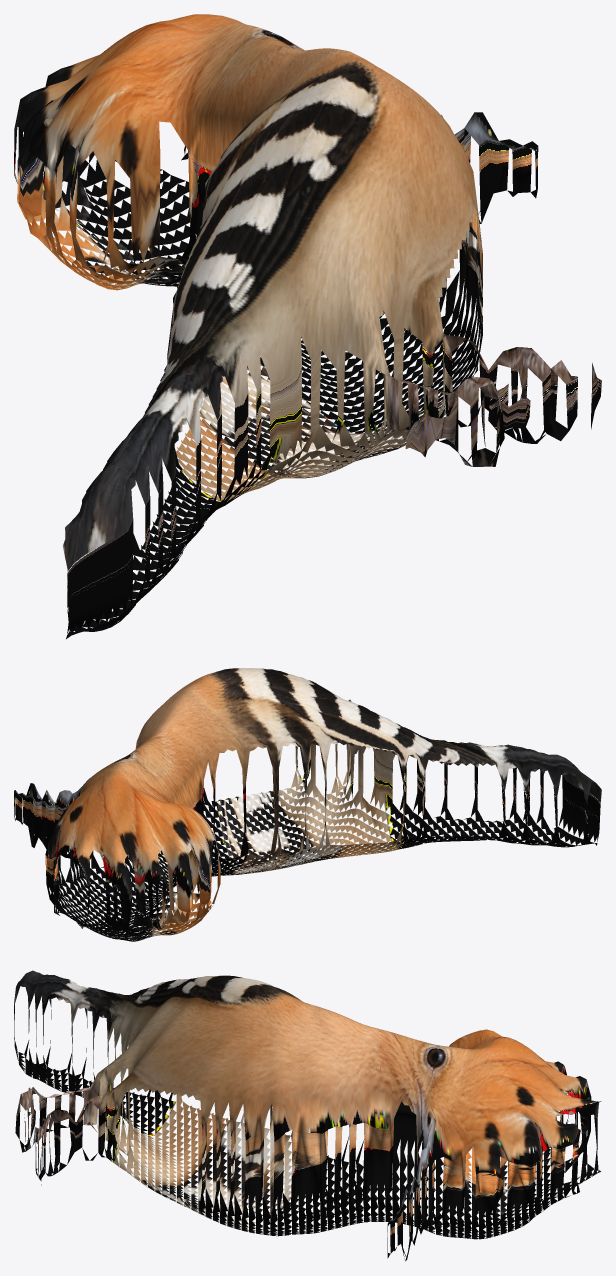
Rendered from hoopoe.glb.
The picture shows the model from 3 angles, top to bottom: view 1: azimuth 30°, elevation 25°; view 2: azimuth 150°, elevation 25°; view 3: azimuth 270°, elevation 25°; orthographic projection. The views are drawn at different scales.
Visible parts, largest first — view 1: hoopoe_obj; view 2: hoopoe_obj; view 3: hoopoe_obj.
Boxes of the visible parts, x1,y1,x2,y2 form: hoopoe_obj: [14, 14, 601, 638]; hoopoe_obj: [14, 668, 601, 941]; hoopoe_obj: [14, 970, 601, 1261].
Size of the model in its own units: 1.7 by 0.7729 by 1.7.
Materials: 1 (1 with a texture image).
